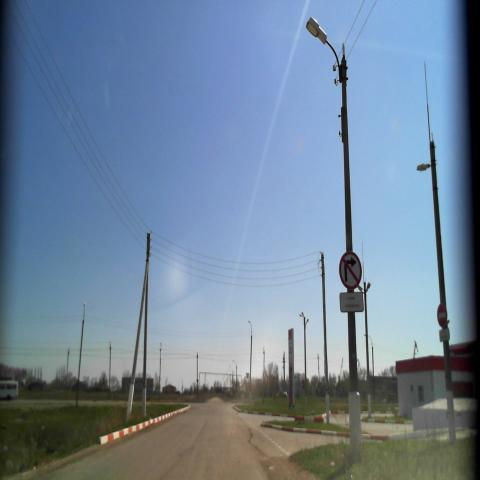3_1: (437, 302, 449, 330)
3_18: (338, 250, 362, 289)
